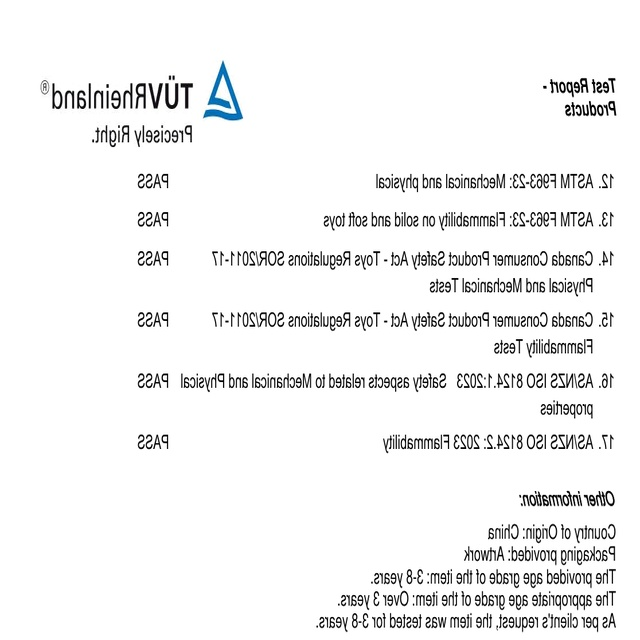tuv_rheinland: (37, 59, 246, 125)
